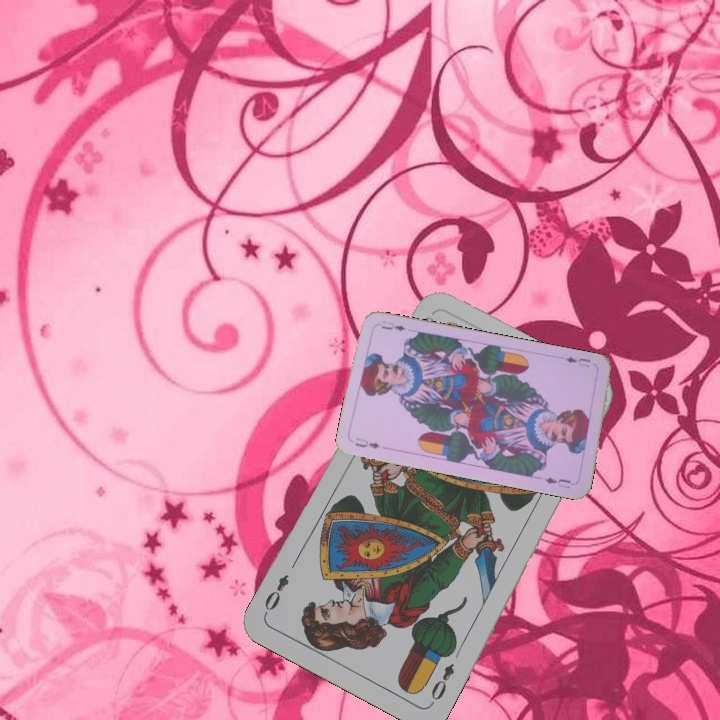EO: (427, 659, 457, 708)
EU: (561, 352, 593, 370), (351, 433, 382, 451)
